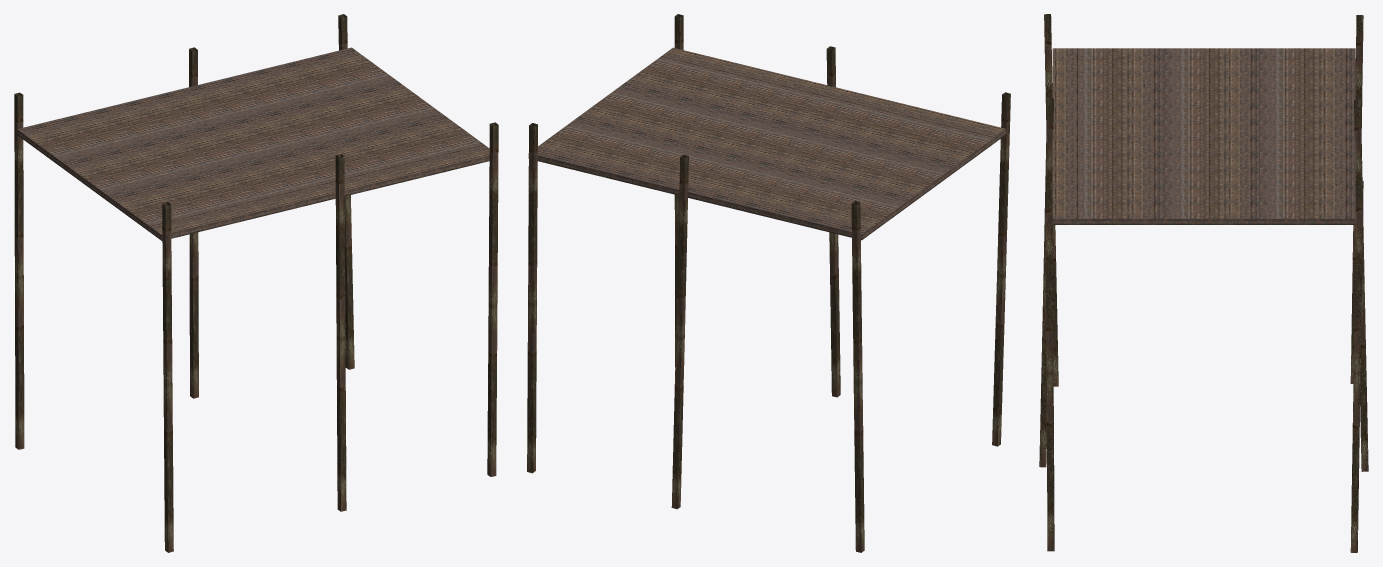
The model's file is PBlok01B.glb.
The picture shows the model from 3 angles, left to right: view 1: azimuth 30°, elevation 25°; view 2: azimuth 150°, elevation 25°; view 3: azimuth 270°, elevation 25°; orthographic projection. The views are drawn at different scales.
Visible parts, largest first — view 1: _PBlok01B; view 2: _PBlok01B; view 3: _PBlok01B.
Boxes of the visible parts, bbox=[...] form: _PBlok01B: bbox=[14, 14, 498, 552]; _PBlok01B: bbox=[527, 14, 1010, 552]; _PBlok01B: bbox=[1039, 14, 1368, 552].
Size of the model in its own units: 16.06 by 16.31 by 13.05.
Materials: 2 (2 with a texture image).
